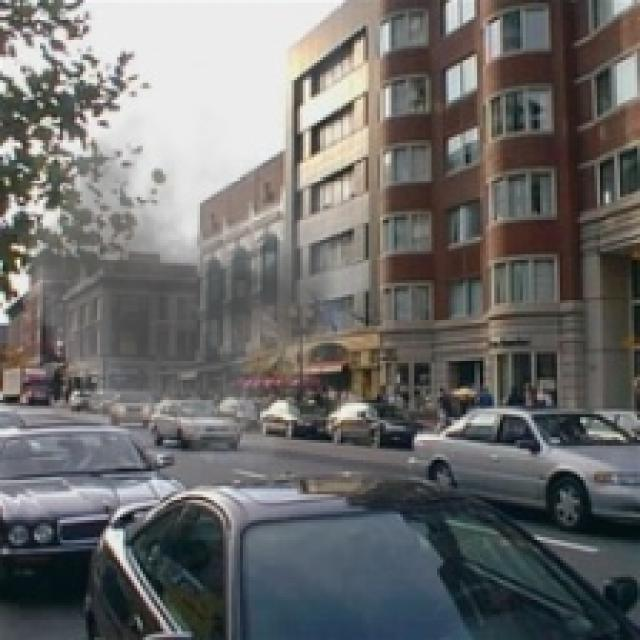smoke: (6, 63, 368, 486)
